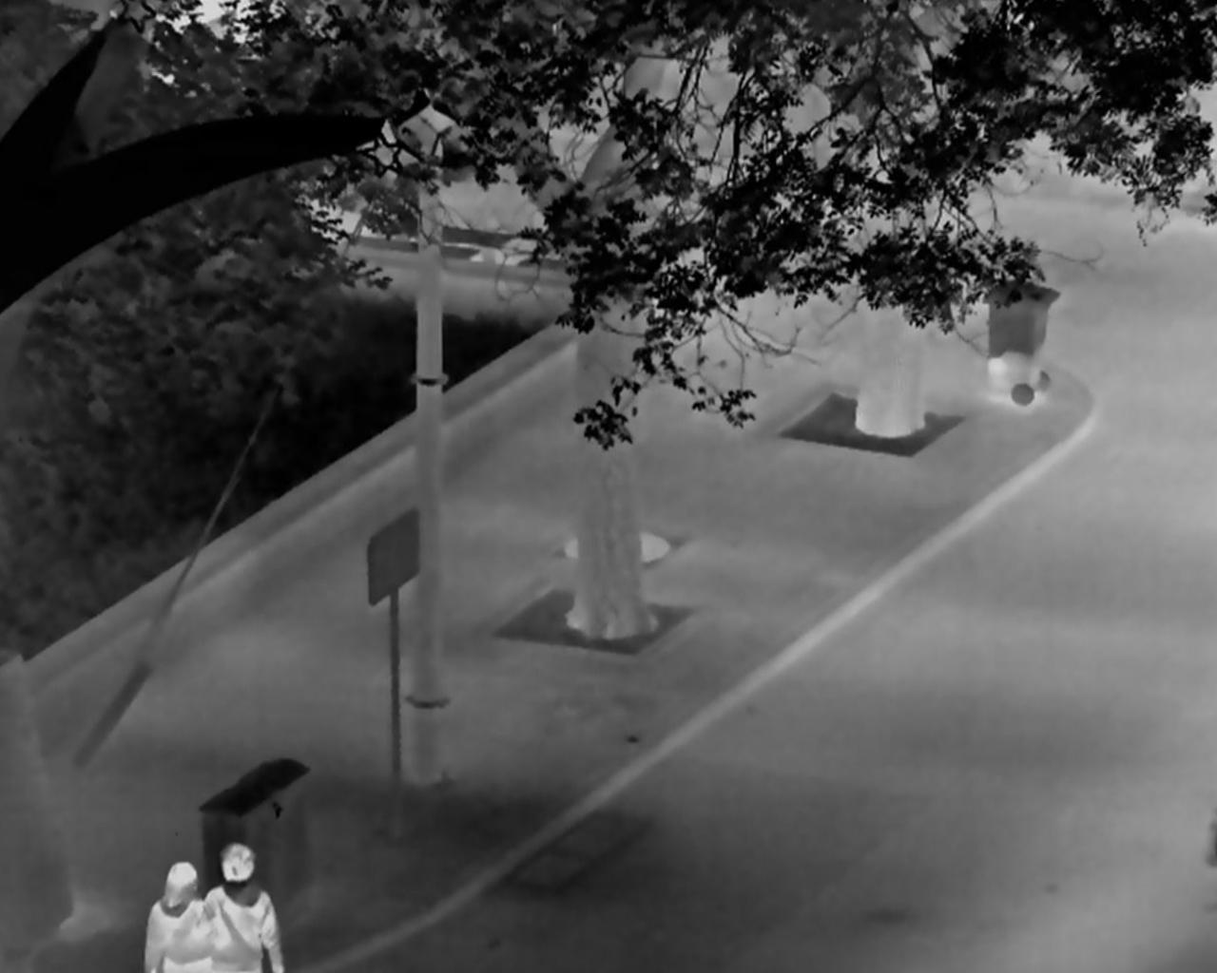person: (203, 843, 288, 973), (145, 860, 213, 973)
